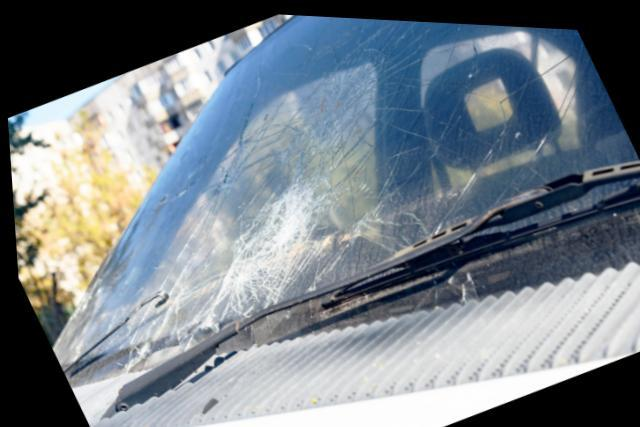glass shatter: (47, 12, 640, 384)
